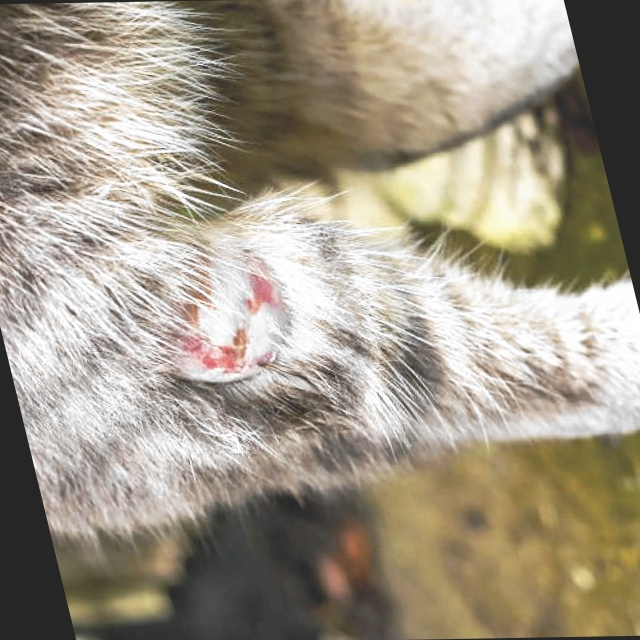lump_and_bump: (127, 252, 306, 387)
